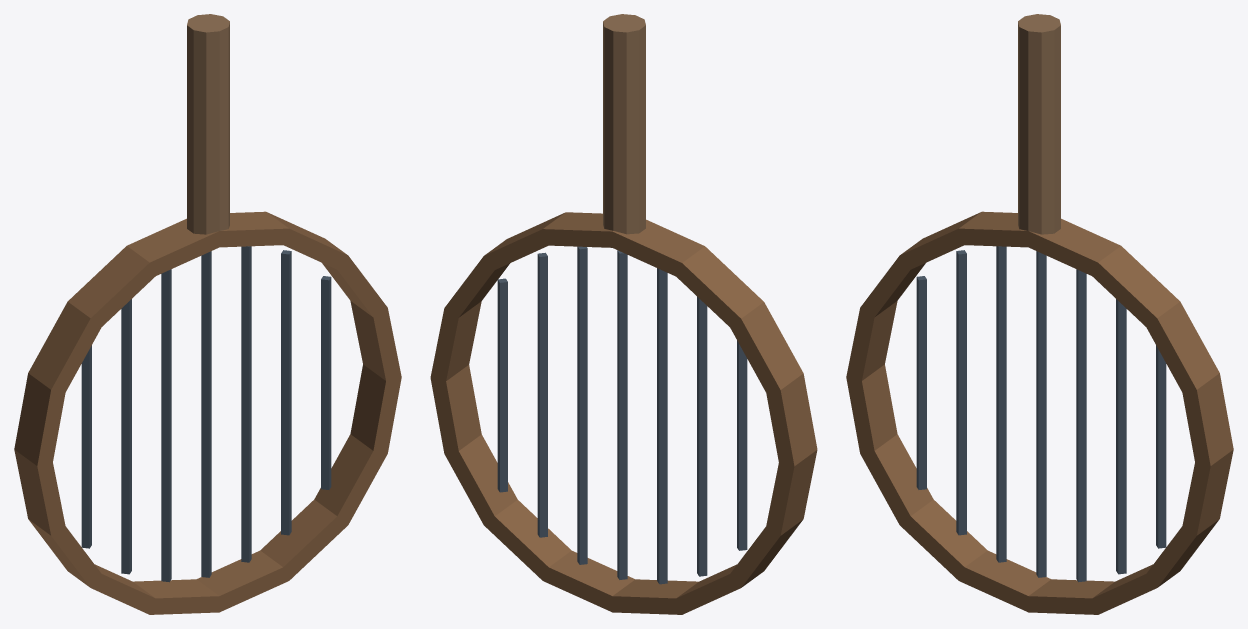
File: L-34_mesh_sieve.glb
The picture shows the model from 3 angles, left to right: view 1: azimuth 30°, elevation 25°; view 2: azimuth 150°, elevation 25°; view 3: azimuth 330°, elevation 25°; orthographic projection.
Visible parts, largest first — view 1: L-34_mesh_sieve; view 2: L-34_mesh_sieve; view 3: L-34_mesh_sieve.
Part boxes in pixels (x1,y1,x2,y2): L-34_mesh_sieve: (14,14,401,614); L-34_mesh_sieve: (430,14,817,614); L-34_mesh_sieve: (846,14,1233,614).
Bounding box in the file's own units: 0.21 × 0.32 × 0.023.
